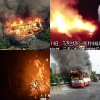fire: (50, 11, 95, 34), (6, 18, 44, 38), (31, 55, 49, 93), (70, 69, 91, 81)
